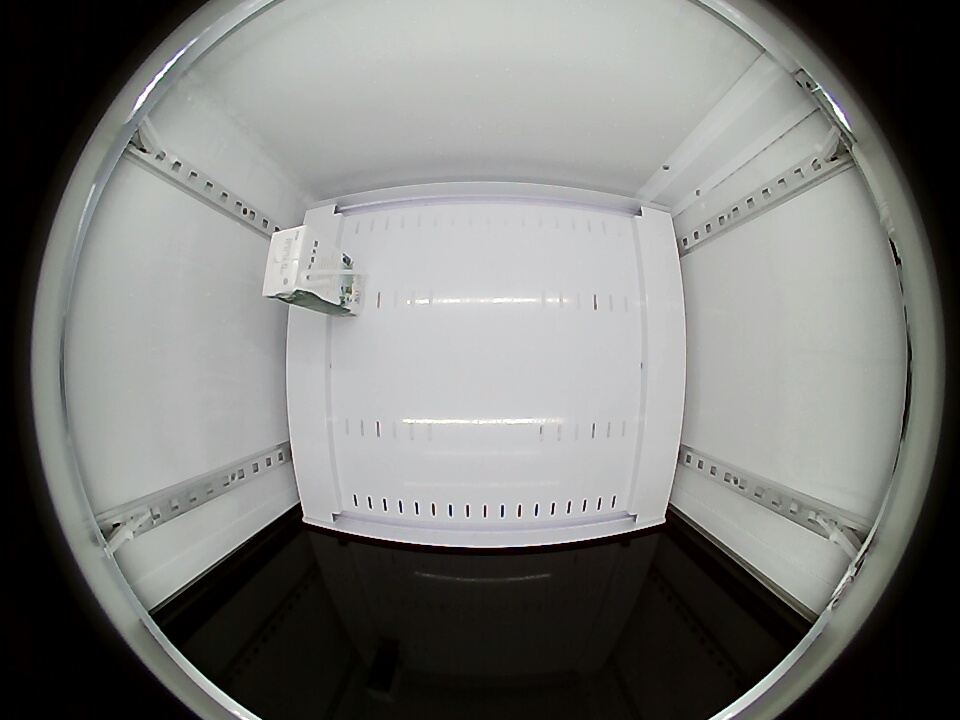jindian: (262, 219, 340, 305)
